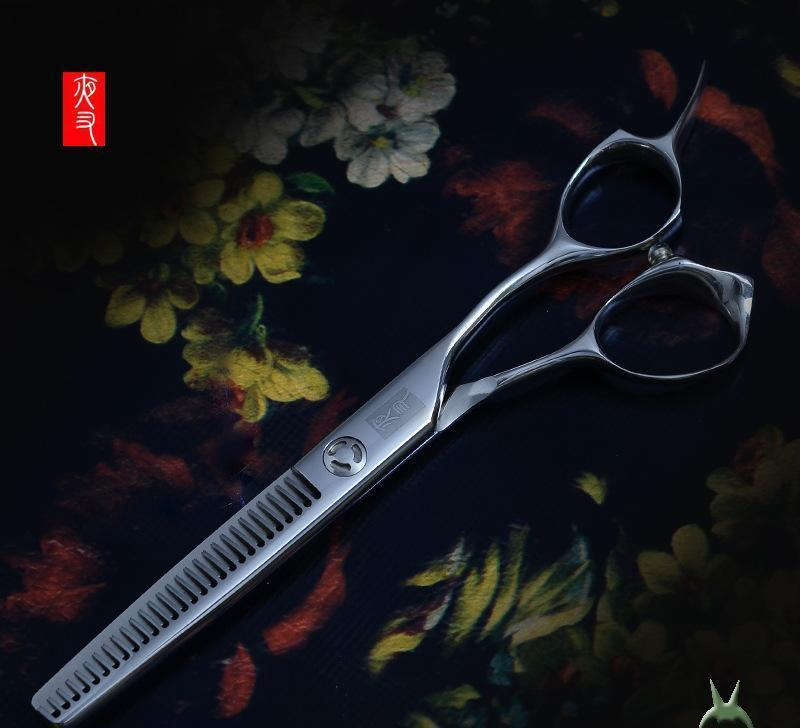scissor: (66, 76, 787, 679)
